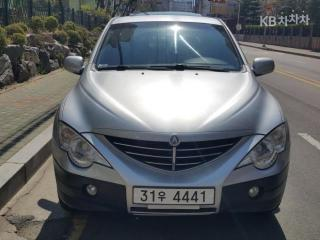1: (199, 190, 208, 203), (150, 190, 157, 203)
3: (140, 189, 149, 202)
4: (181, 190, 191, 203), (173, 190, 182, 204), (191, 190, 199, 203)
우: (158, 190, 167, 203)
